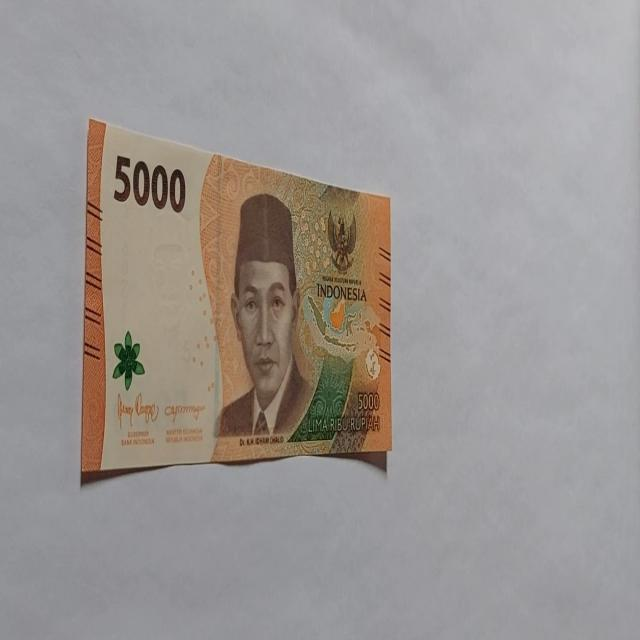lima ribu rupiah: (80, 118, 392, 484), (212, 191, 316, 442)
